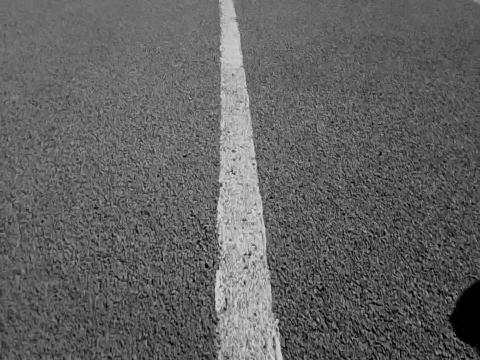Lines: (217, 0, 287, 360)
